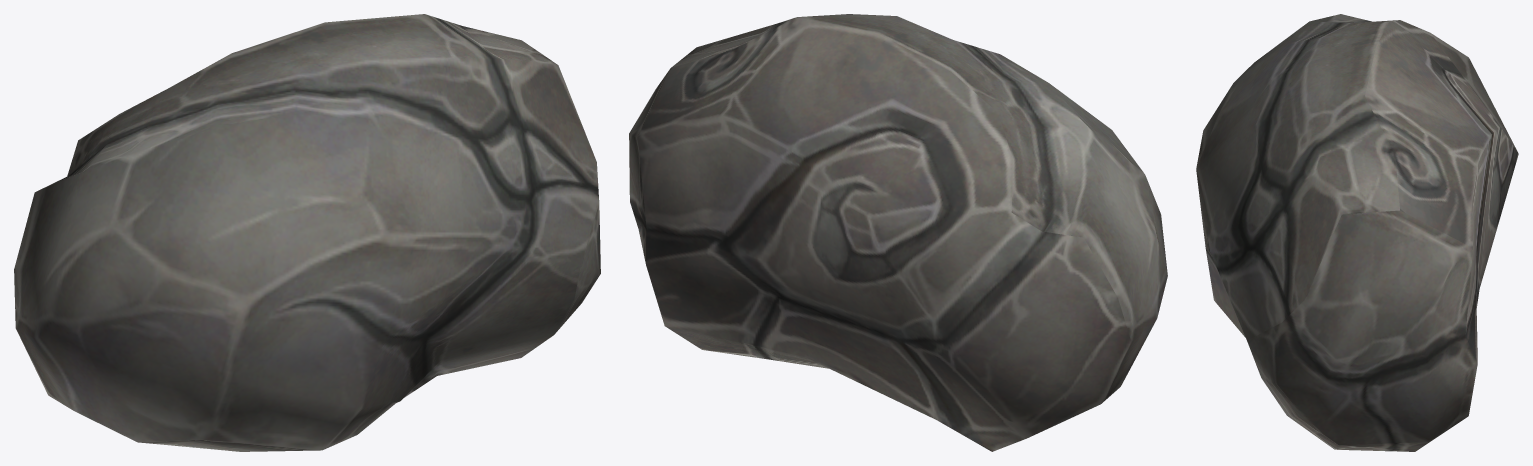
The model's file is rock4.glb.
The picture shows the model from 3 angles, left to right: view 1: azimuth 30°, elevation 25°; view 2: azimuth 150°, elevation 25°; view 3: azimuth 270°, elevation 25°; orthographic projection. The views are drawn at different scales.
Parts seen in each view (by area): view 1: node_id182; view 2: node_id182; view 3: node_id182.
Boxes of the visible parts, left/top/right/bottom form: node_id182: left=14, top=14, right=600, bottom=451; node_id182: left=629, top=14, right=1167, bottom=451; node_id182: left=1196, top=14, right=1518, bottom=451.
Size of the model in its own units: 0.1858 by 0.1263 by 0.105.
1 material, 1 textured.
